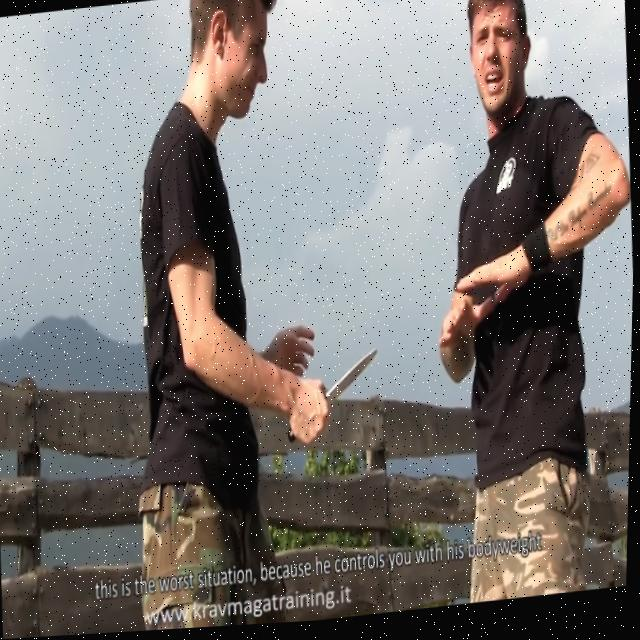knife: (324, 341, 387, 411)
